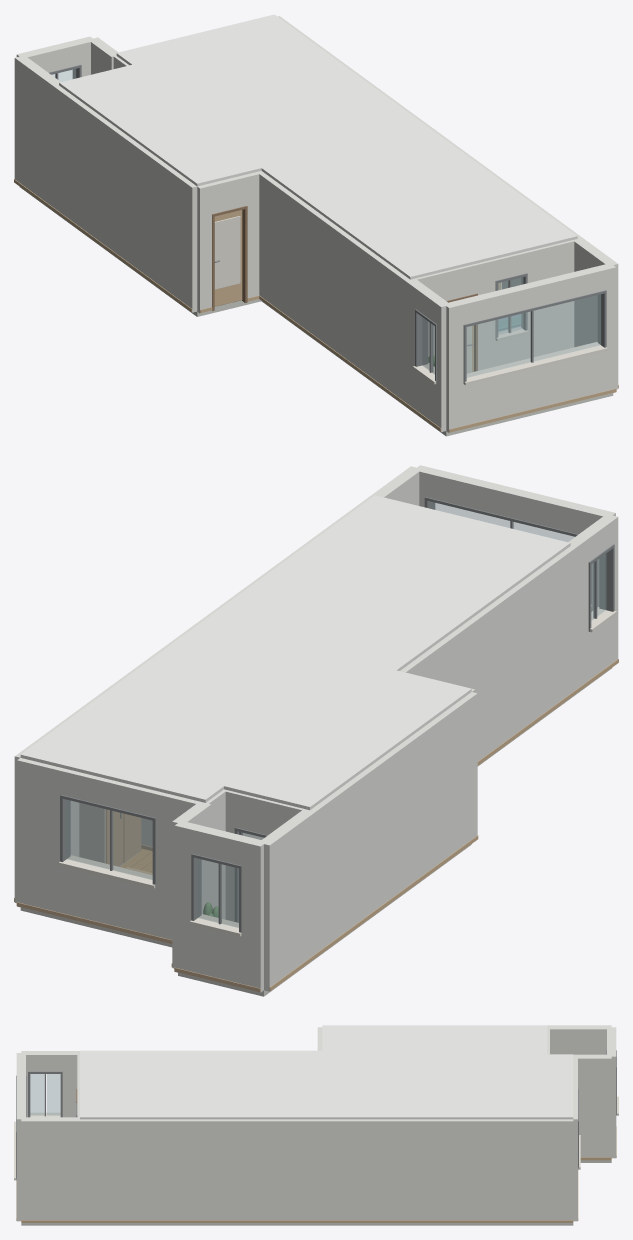
File: two-03.glb
3 views of the same model, one above another, from view 1: azimuth 30°, elevation 25°; view 2: azimuth 150°, elevation 25°; view 3: azimuth 270°, elevation 25° (orthographic). The views are drawn at different scales.
Visible parts, largest first — view 1: architecture_wall, ceiling_ceiling, frames_glass, frames_metal, trim_oak, frames_ivory, door_ivory, slab_edge, frames_walnut, door_oak; view 2: architecture_wall, ceiling_ceiling, frames_glass, frames_metal, trim_oak, frames_ivory, furniture_oak, furniture_ivory, slab_edge; view 3: architecture_wall, ceiling_ceiling, trim_oak, slab_edge, frames_glass, frames_metal, frames_ivory.
Boxes of the visible parts, x1,y1,x2,y2 form: architecture_wall: [14, 16, 618, 432]; ceiling_ceiling: [59, 14, 577, 279]; frames_glass: [52, 69, 600, 377]; frames_metal: [49, 65, 606, 383]; trim_oak: [14, 179, 618, 432]; frames_ivory: [413, 327, 607, 385]; door_ivory: [214, 216, 240, 289]; slab_edge: [20, 187, 613, 436]; frames_walnut: [212, 206, 477, 371]; door_oak: [214, 210, 242, 306]; architecture_wall: [14, 465, 618, 992]; ceiling_ceiling: [20, 495, 570, 810]; frames_glass: [66, 502, 606, 927]; frames_metal: [60, 497, 614, 935]; trim_oak: [14, 659, 618, 992]; frames_ivory: [58, 604, 616, 936]; furniture_oak: [105, 809, 152, 874]; furniture_ivory: [79, 803, 139, 866]; slab_edge: [20, 668, 611, 996]; architecture_wall: [16, 1025, 616, 1223]; ceiling_ceiling: [80, 1025, 573, 1119]; trim_oak: [16, 1126, 616, 1222]; slab_edge: [21, 1160, 611, 1225]; frames_glass: [30, 1074, 60, 1115]; frames_metal: [16, 1050, 616, 1179]; frames_ivory: [14, 1096, 618, 1180].
Size of the model in its own units: 5.58 by 2.93 by 14.8.
20 materials, 4 textured.
